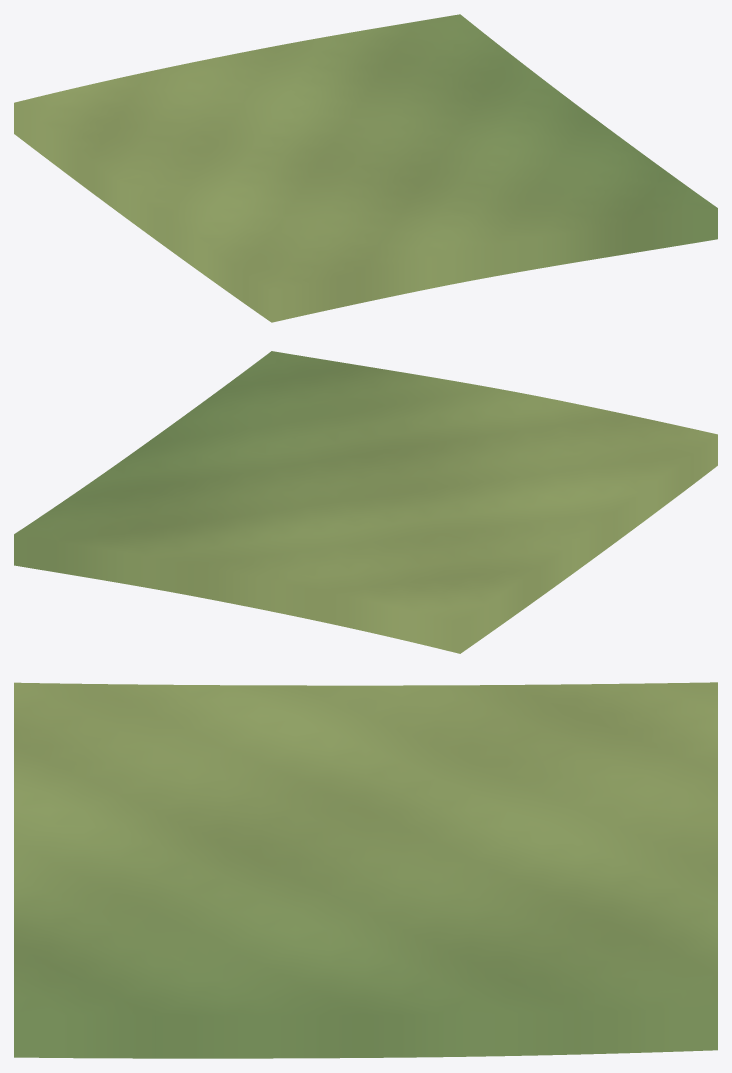
The picture shows the model from 3 angles, top to bottom: view 1: azimuth 30°, elevation 25°; view 2: azimuth 150°, elevation 25°; view 3: azimuth 270°, elevation 25°; orthographic projection. The views are drawn at different scales.
Parts seen in each view (by area): view 1: terrain; view 2: terrain; view 3: terrain.
Boxes of the visible parts, box(x1,y1,x2,y2) form: terrain: box(14, 14, 717, 322); terrain: box(14, 351, 717, 653); terrain: box(14, 682, 717, 1058).
Size of the model in its own units: 30 by 3.7 by 30.
